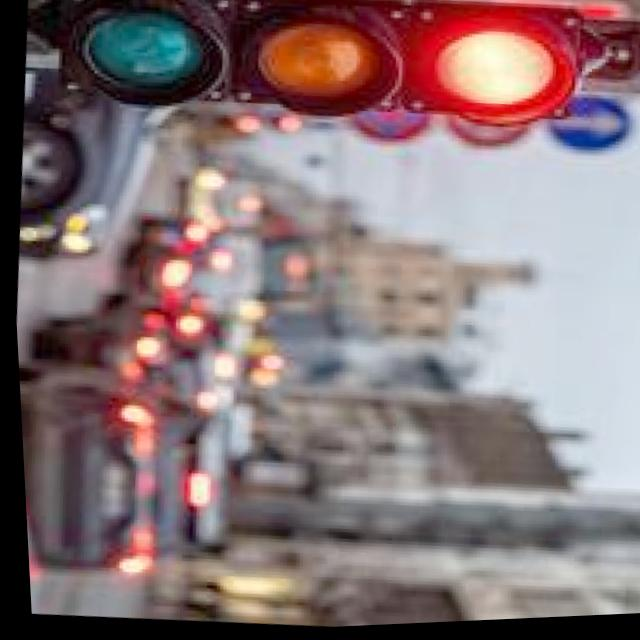red_light: (399, 0, 583, 153)
